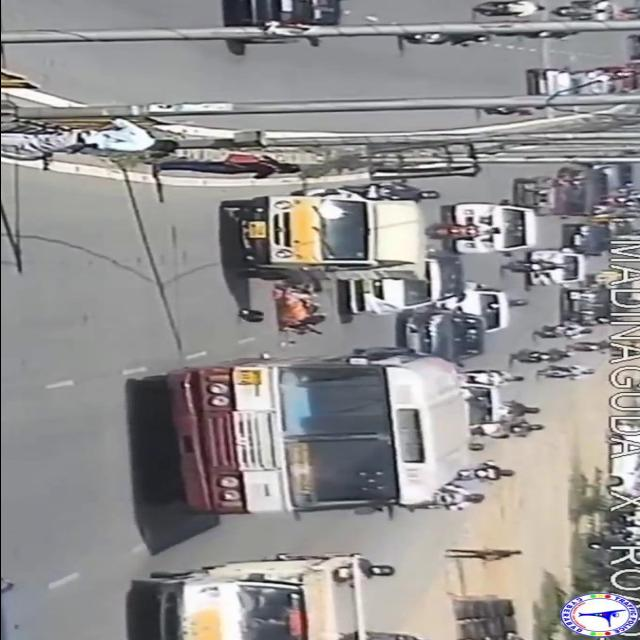accident: (231, 284, 351, 342)
non_accident: (394, 150, 640, 366), (520, 34, 640, 98)
